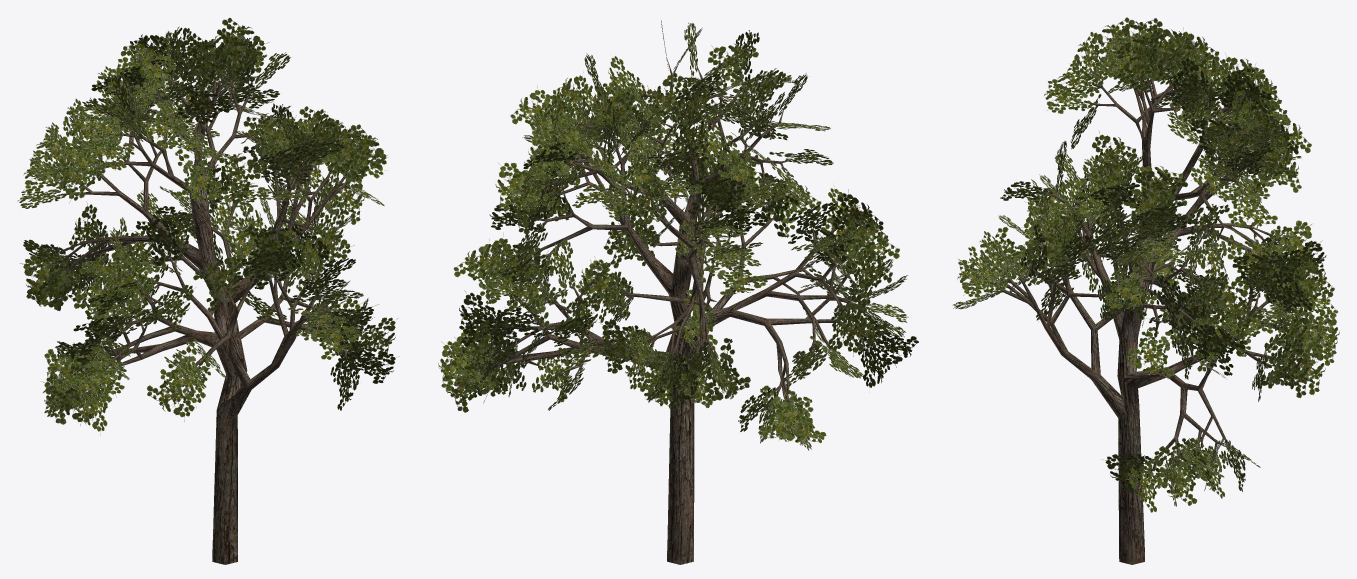
Rendered from tree-4-5.obj.
The picture shows the model from 3 angles, left to right: view 1: azimuth 30°, elevation 25°; view 2: azimuth 150°, elevation 25°; view 3: azimuth 270°, elevation 25°; orthographic projection. The views are drawn at different scales.
Parts seen in each view (by area): view 1: Twig0, Tree0; view 2: Twig0, Tree0; view 3: Twig0, Tree0.
Part boxes in pixels (x1,y1,x2,y2): Twig0: [17, 17, 399, 435]; Tree0: [56, 62, 359, 564]; Twig0: [438, 20, 918, 450]; Tree0: [481, 58, 873, 564]; Twig0: [952, 17, 1339, 512]; Tree0: [985, 70, 1299, 564].
Size of the model in its own units: 4.1 by 5.29 by 3.59.
